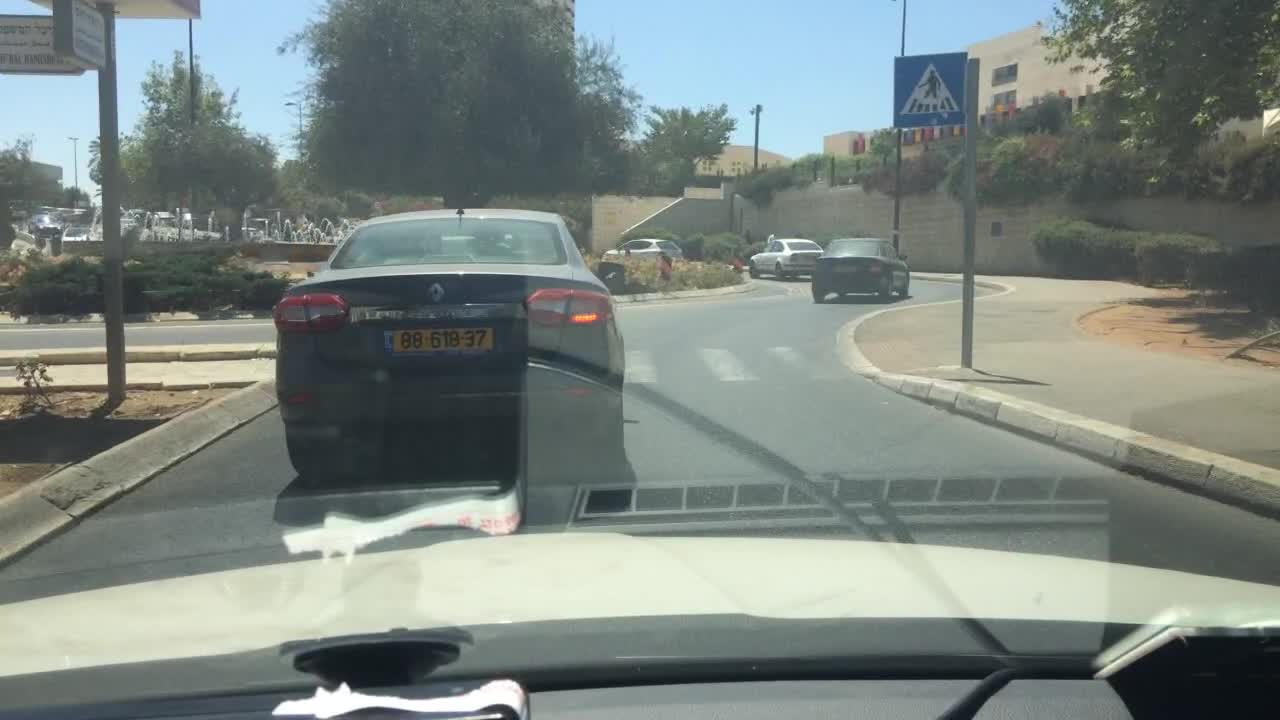car: (273, 199, 626, 481), (808, 232, 910, 304), (747, 236, 823, 280), (597, 236, 683, 261)
traffic sign: (892, 51, 968, 128), (2, 13, 75, 75), (57, 0, 105, 69)
